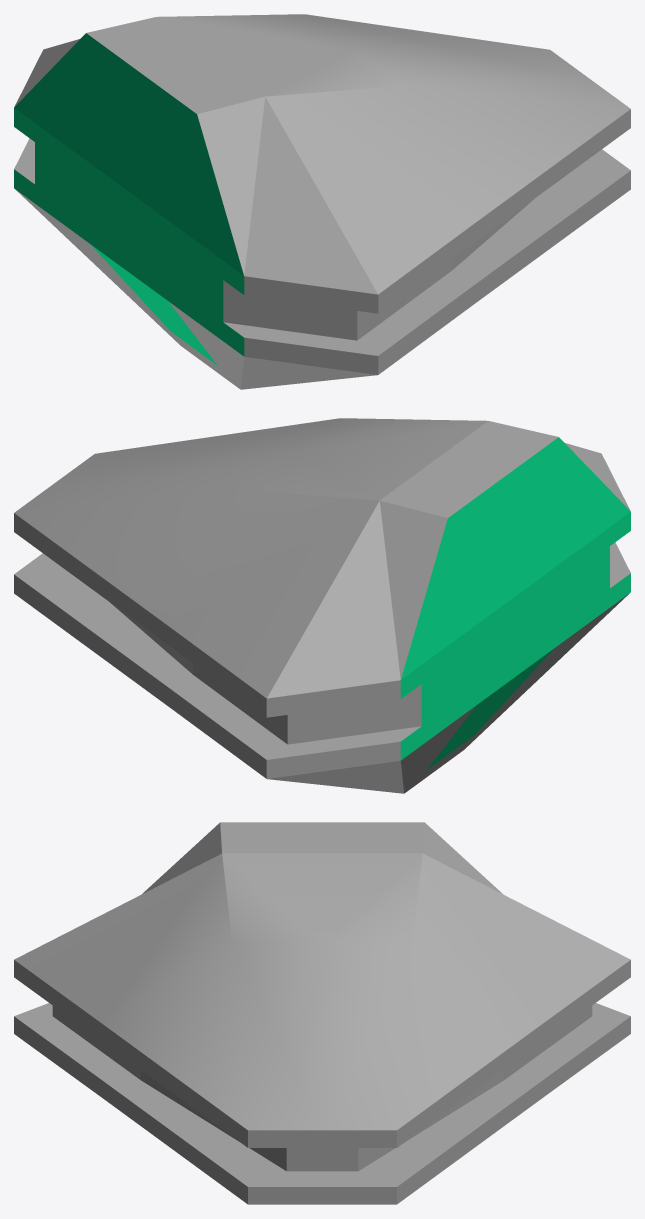
Rendered from SM_FrigateHullBow.fbx.
The picture shows the model from 3 angles, top to bottom: view 1: azimuth 30°, elevation 25°; view 2: azimuth 150°, elevation 25°; view 3: azimuth 270°, elevation 25°; orthographic projection. The views are drawn at different scales.
Parts seen in each view (by area): view 1: polySurface36; view 2: polySurface36; view 3: polySurface36.
Boxes of the visible parts, left/top/right/bottom form: polySurface36: left=14, top=14, right=630, bottom=389; polySurface36: left=14, top=418, right=630, bottom=793; polySurface36: left=14, top=822, right=630, bottom=1204.
Size of the model in its own units: 1676 by 1080 by 2107.
